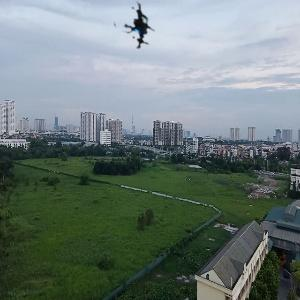drone: (114, 1, 162, 49)
